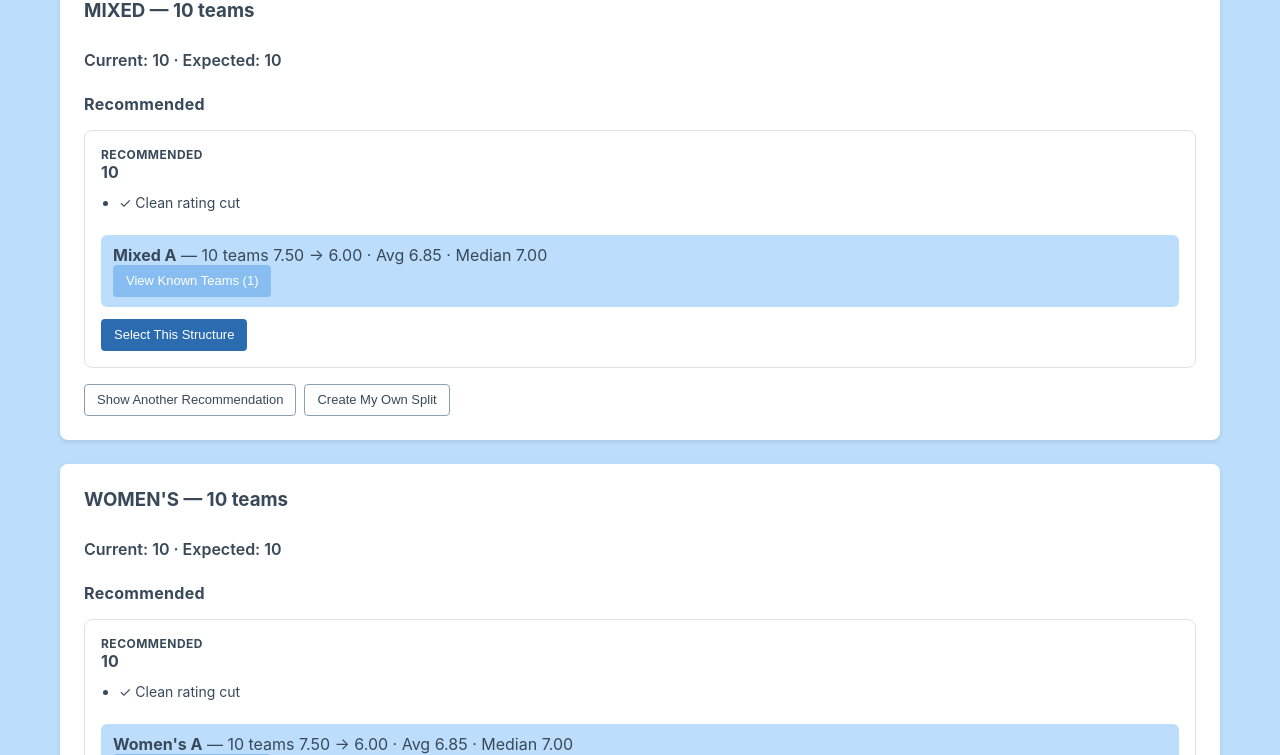
Scenario: CreateTournamentFromRwOs Step 3 workflow › keeps custom split controls hidden until Create My Own Split
The width and height of the screenshot is (1280, 755).
(page scrolled)
Expected: the button "Analyze Custom Structure" is not shown
Click the button "Create My Own Split" at (377, 400), box [304,384,450,416]
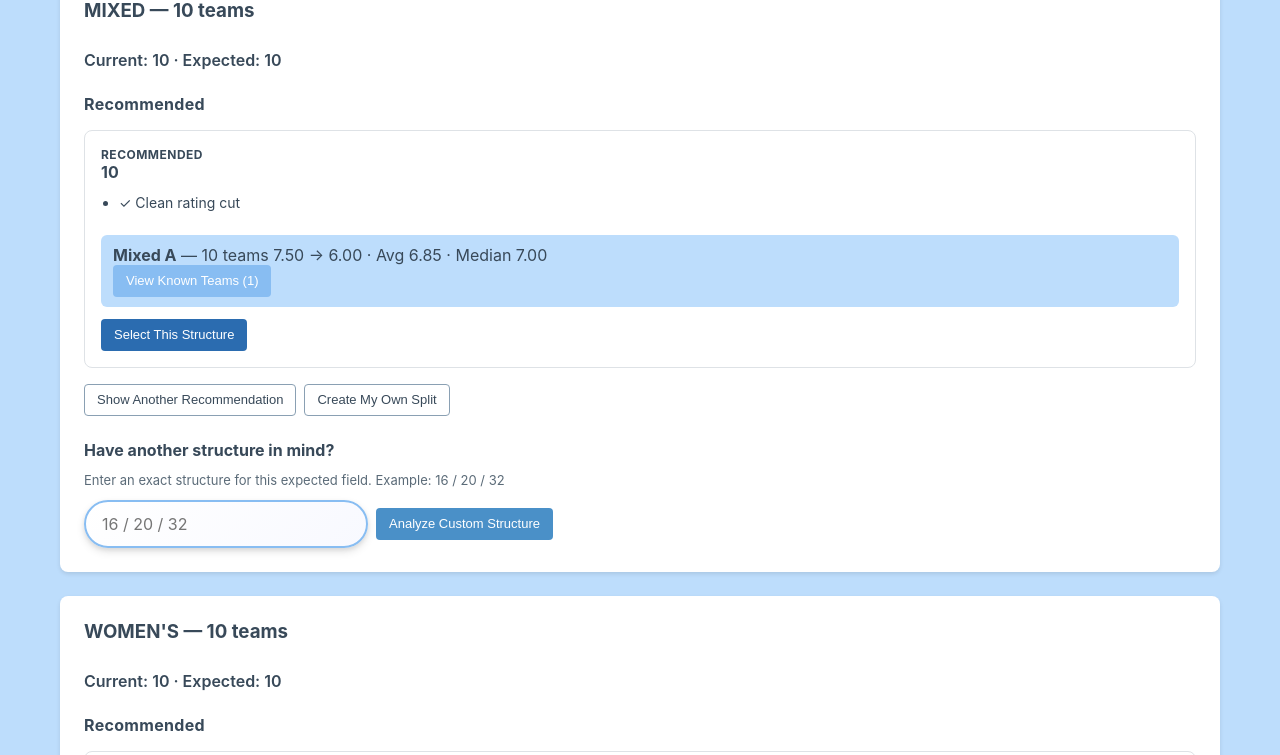
Result: the element with test id "custom-structure-form" is shown at [84,440,553,548]
Result: the button "Analyze Custom Structure" is shown at [376,508,553,540]
